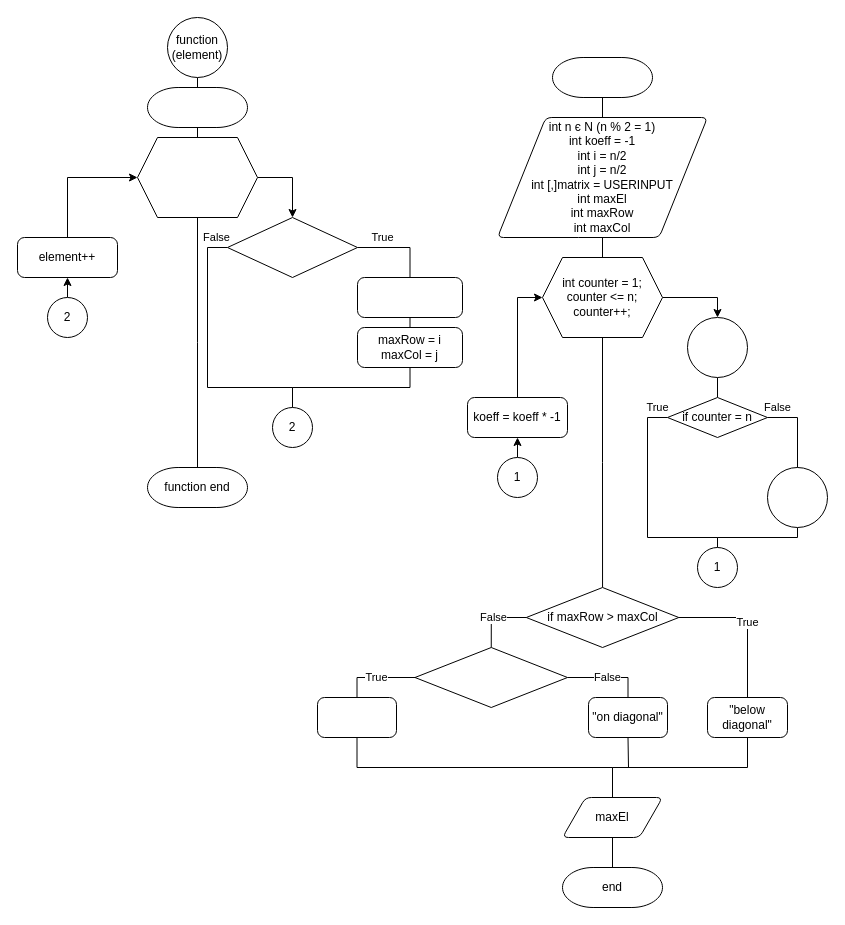
Image size: 845x925. Some labels were removed from this diagram. Here are the shapes that lost their labels. From the top down, the centre of each, then its label:
pixel 602 77: start
pixel 197 107: function start
pixel 197 177: int k = 0; k < counter; k++
pixel 292 247: if matrix[i, j] > maxEl
pixel 409 297: maxEl = matrix[i, j]
pixel 717 347: function ( j )
pixel 797 497: function ( i )
pixel 491 677: if maxRow < maxCol
pixel 356 717: "above diagonal"
